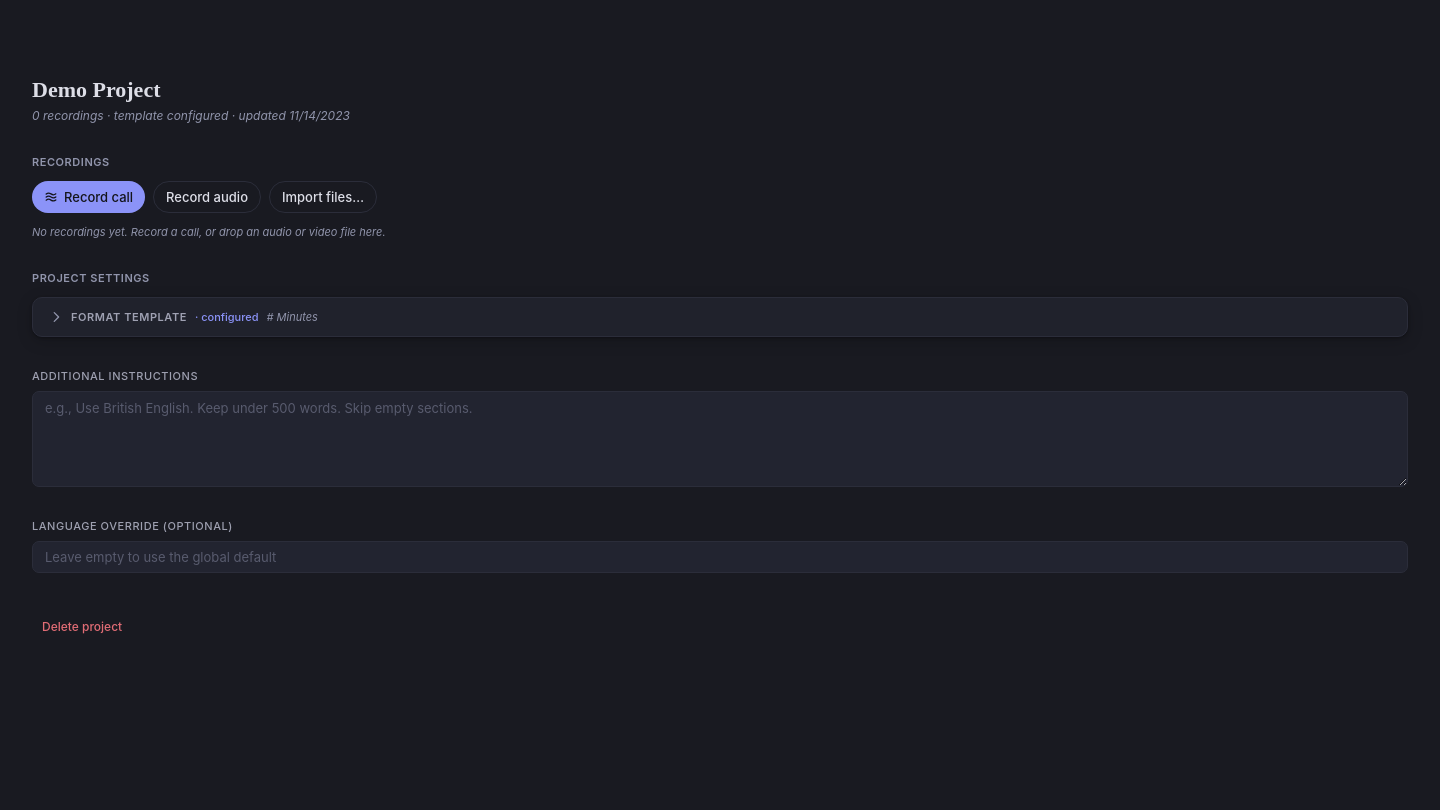
Test: ProjectView header + template collapse › toggles the template body open when the header is clicked
Click the button "Format template · configured # Minutes": (129, 316) left=33, top=298, right=1407, bottom=336
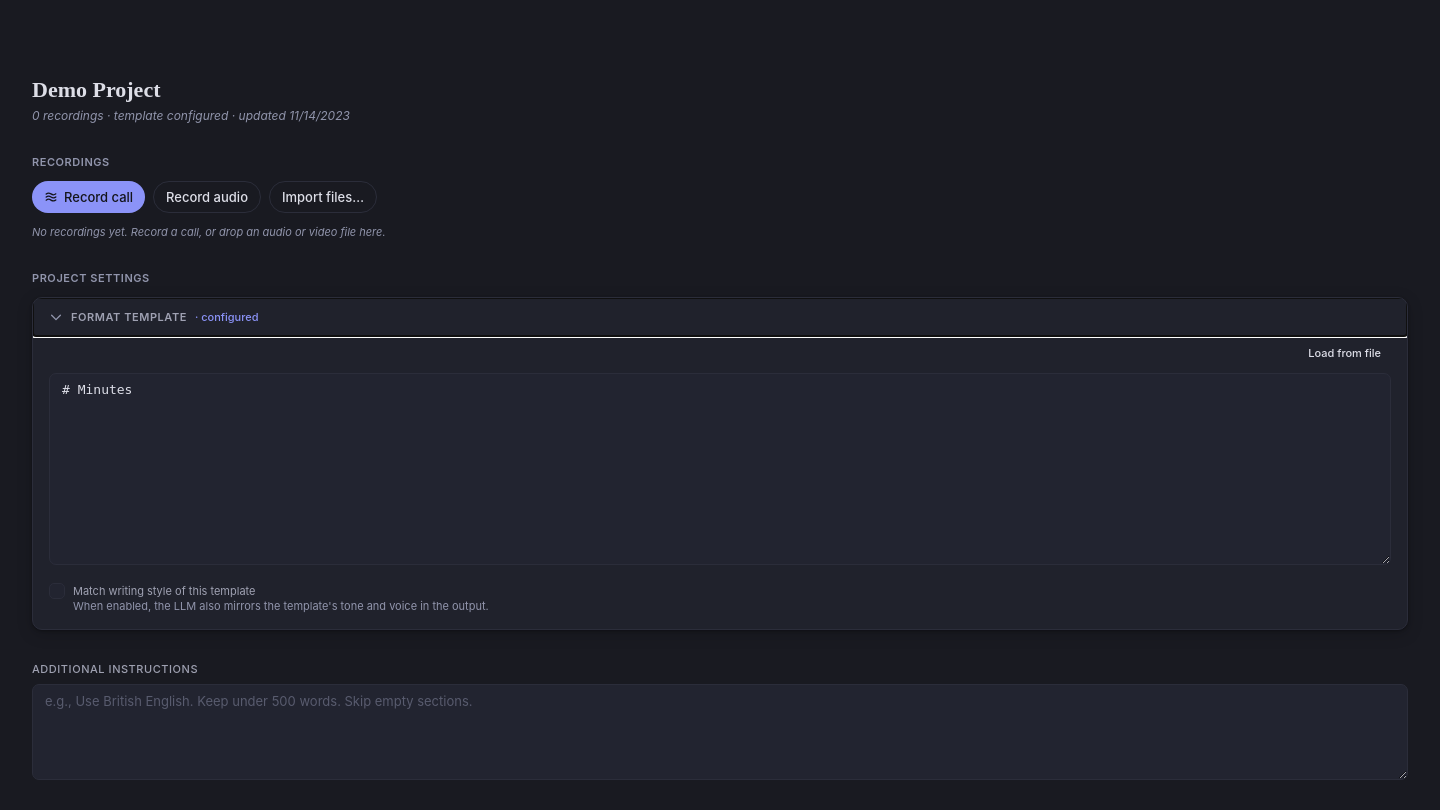
Check: the text box with placeholder "# Meeting Minutes Date: [DATE] ..." is shown, box left=49, top=372, right=1391, bottom=564
